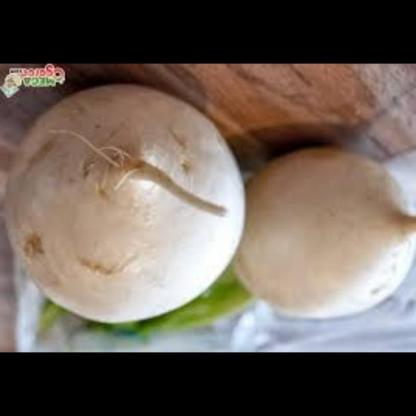redka: (0, 79, 249, 334), (235, 144, 416, 318)
